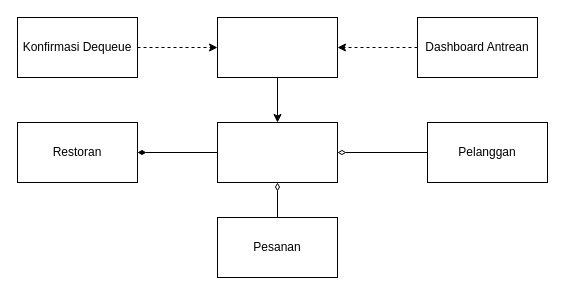
Image size: 565x295. Some labels were removed from this diagram. The shapes that lost their labels are listed below. From the top down, each one's centre as x and y in pixels, then its label:
At (x=277, y=47): "Kelola Antrean".
At (x=277, y=152): "Antrean".
